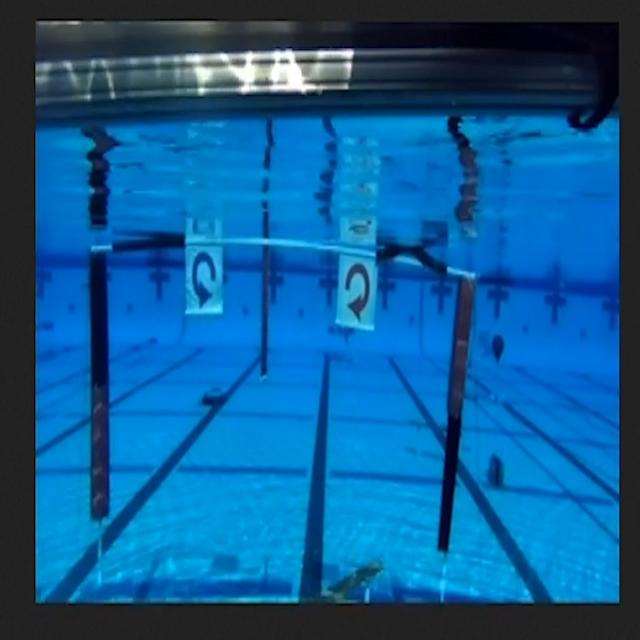Gate: (76, 222, 488, 564)
